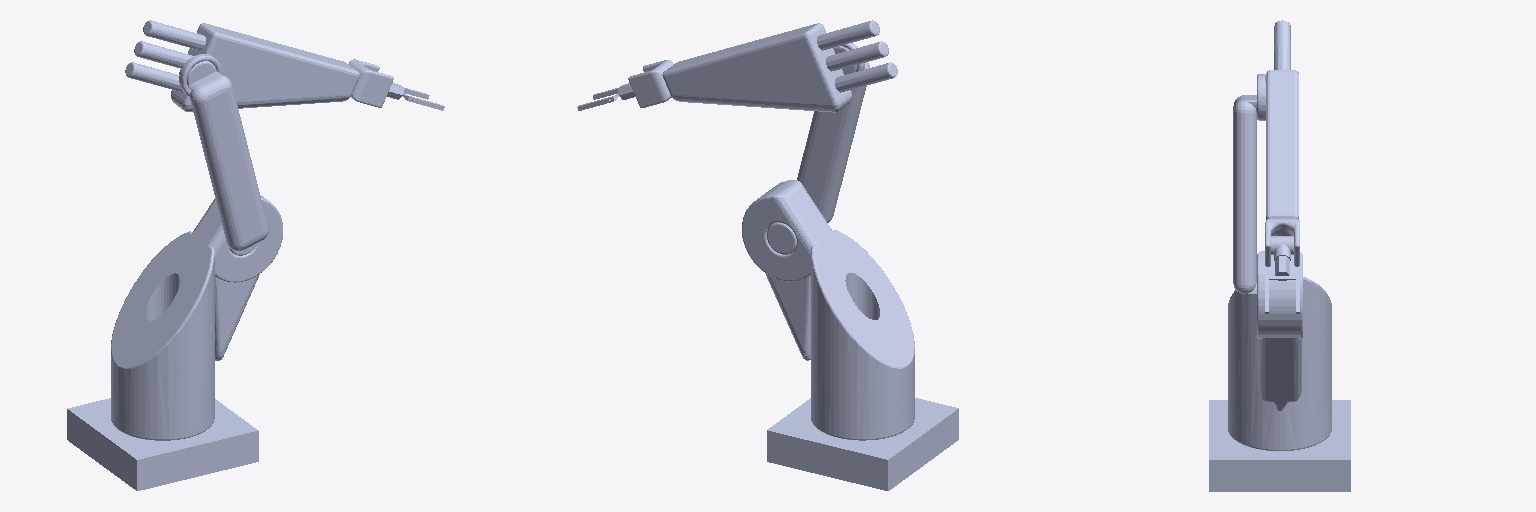
The robot description file, URDF, robot "kr6_v5":
<?xml version="1.0" encoding="utf-8"?>
<!-- This URDF was automatically created by SolidWorks to URDF Exporter! Originally created by [author] ([email redacted]) 
     Commit Version: 1.6.0-4-g7f85cfe  Build Version: 1.6.7995.38578
     For more information, please see http://wiki.ros.org/sw_urdf_exporter -->
<robot
  name="kr6_v5">
  <link name="world"/>
  <joint 
    name="world_joint"
    type="fixed">
    <parent
      link="world" />
    <child
      link="dummy_link" />
  </joint>
  <link name="dummy_link"/>
  <joint 
    name="dummy_joint"
    type="fixed">
    <parent
      link="dummy_link" />
    <child
      link="base_link" />
  </joint>
  <link
    name="base_link">
    <inertial>
      <origin
        xyz="0 5.5511E-17 0.089687"
        rpy="0 0 0" />
      <mass
        value="1059.757" />
      <inertia
        ixx="2.0043"
        ixy="7.0399E-17"
        ixz="1.4025E-17"
        iyy="1.9904"
        iyz="1.5709E-17"
        izz="3.4174" />
    </inertial>
    <visual>
      <origin
        xyz="0 0 0"
        rpy="0 0 0" />
      <geometry>
        <mesh
          filename="package://kr6_v5/meshes/base_link.STL" />
      </geometry>
      <material
        name="">
        <color
          rgba="0.79216 0.81961 0.93333 1" />
      </material>
    </visual>
    <collision>
      <origin
        xyz="0 0 0"
        rpy="0 0 0" />
      <geometry>
        <mesh
          filename="package://kr6_v5/meshes/base_link.STL" />
      </geometry>
    </collision>
  </link>
  <link
    name="l1">
    <inertial>
      <origin
        xyz="0.10748 1.104E-06 0.40131"
        rpy="0 0 0" />
      <mass
        value="108.68" />
      <inertia
        ixx="8.1398"
        ixy="3.1331E-05"
        ixz="-3.3196"
        iyy="10.286"
        iyz="1.275E-05"
        izz="4.6315" />
    </inertial>
    <visual>
      <origin
        xyz="0 0 0"
        rpy="0 0 0" />
      <geometry>
        <mesh
          filename="package://kr6_v5/meshes/l1.STL" />
      </geometry>
      <material
        name="">
        <color
          rgba="0.79216 0.81961 0.93333 1" />
      </material>
    </visual>
    <collision>
      <origin
        xyz="0 0 0"
        rpy="0 0 0" />
      <geometry>
        <mesh
          filename="package://kr6_v5/meshes/l1.STL" />
      </geometry>
    </collision>
  </link>
  <joint
    name="l1j"
    type="revolute">
    <origin
      xyz="0 0 0.15"
      rpy="0 0 0" />
    <parent
      link="base_link" />
    <child
      link="l1" />
    <axis
      xyz="0 0 1" />
    <limit
      lower="-3.2"
      upper="3.2"
      effort="50000"
      velocity="2.72" />
  </joint>
  <link
    name="l2">
    <inertial>
      <origin
        xyz="-0.0882961411823312 -0.0195458235269697 0.350516240830925"
        rpy="0 0 0" />
      <mass
        value="19.0484979909924" />
      <inertia
        ixx="1.54282672938812"
        ixy="-0.0409203624281092"
        ixz="0.354946702854769"
        iyy="1.5914800848933"
        iyz="0.162444829634413"
        izz="0.223178633229203" />
    </inertial>
    <visual>
      <origin
        xyz="0 0 0"
        rpy="0 0 0" />
      <geometry>
        <mesh
          filename="package://kr6_v5/meshes/l2.STL" />
      </geometry>
      <material
        name="">
        <color
          rgba="0.792156862745098 0.819607843137255 0.933333333333333 1" />
      </material>
    </visual>
    <collision>
      <origin
        xyz="0 0 0"
        rpy="0 0 0" />
      <geometry>
        <mesh
          filename="package://kr6_v5/meshes/l2.STL" />
      </geometry>
    </collision>
  </link>
  <joint
    name="l2j"
    type="revolute">
    <origin
      xyz="0.35 -0.1 0.815"
      rpy="0 0 0" />
    <parent
      link="l1" />
    <child
      link="l2" />
    <axis
      xyz="0 1 0" />
    <limit
      lower="-1"
      upper="2"
      effort="50000"
      velocity="2.72" />
  </joint>
  <link
    name="l3">
    <inertial>
      <origin
        xyz="0.27915 0.070676 -0.081656"
        rpy="0 0 0" />
      <mass
        value="14.618" />
      <inertia
        ixx="0.52588"
        ixy="-0.012706"
        ixz="0.64541"
        iyy="2.6019"
        iyz="0.003709"
        izz="2.1889" />
    </inertial>
    <visual>
      <origin
        xyz="0 0 0"
        rpy="0 0 0" />
      <geometry>
        <mesh
          filename="package://kr6_v5/meshes/l3.STL" />
      </geometry>
      <material
        name="">
        <color
          rgba="0.79216 0.81961 0.93333 1" />
      </material>
    </visual>
    <collision>
      <origin
        xyz="0 0 0"
        rpy="0 0 0" />
      <geometry>
        <mesh
          filename="package://kr6_v5/meshes/l3.STL" />
      </geometry>
    </collision>
  </link>
  <joint
    name="l3j"
    type="revolute">
    <origin
      xyz="-0.207631339859528 0.0388600000000001 0.824250706222407"
      rpy="0 0 0" />
    <parent
      link="l2" />
    <child
      link="l3" />
    <axis
      xyz="0 1 0" />
    <limit
      lower="-1"
      upper="1"
      effort="10000"
      velocity="2.72" />
  </joint>
  <link
    name="l4">
    <inertial>
      <origin
        xyz="0.12033 -7.5101E-08 -0.059844"
        rpy="0 0 0" />
      <mass
        value="3.0974" />
      <inertia
        ixx="0.0086187"
        ixy="7.3193E-09"
        ixz="0.0021149"
        iyy="0.011818"
        iyz="3.3917E-09"
        izz="0.011819" />
    </inertial>
    <visual>
      <origin
        xyz="0 0 0"
        rpy="0 0 0" />
      <geometry>
        <mesh
          filename="package://kr6_v5/meshes/l4.STL" />
      </geometry>
      <material
        name="">
        <color
          rgba="0.79216 0.81961 0.93333 1" />
      </material>
    </visual>
    <collision>
      <origin
        xyz="0 0 0"
        rpy="0 0 0" />
      <geometry>
        <mesh
          filename="package://kr6_v5/meshes/l4.STL" />
      </geometry>
    </collision>
  </link>
  <joint
    name="l4j"
    type="revolute">
    <origin
      xyz="0.709241905394179 0.0719950000000005 -0.190790250361053"
      rpy="0 0 0" />
    <parent
      link="l3" />
    <child
      link="l4" />
    <axis
      xyz="0.89537857085129 0 -0.445305754353456" />
    <limit
      lower="-6.1"
      upper="6.1"
      effort="1000"
      velocity="5.99" />
  </joint>
  <link
    name="l5">
    <inertial>
      <origin
        xyz="0.0069222 8.1476E-08 -0.0034424"
        rpy="0 0 0" />
      <mass
        value="1.67271" />
      <inertia
        ixx="0.0018727"
        ixy="-1.1811E-09"
        ixz="0.00012007"
        iyy="0.0010091"
        iyz="3.1402E-10"
        izz="0.0020544" />
    </inertial>
    <visual>
      <origin
        xyz="0 0 0"
        rpy="0 0 0" />
      <geometry>
        <mesh
          filename="package://kr6_v5/meshes/l5.STL" />
      </geometry>
      <material
        name="">
        <color
          rgba="0.79216 0.81961 0.93333 1" />
      </material>
    </visual>
    <collision>
      <origin
        xyz="0 0 0"
        rpy="0 0 0" />
      <geometry>
        <mesh
          filename="package://kr6_v5/meshes/l5.STL" />
      </geometry>
    </collision>
  </link>
  <joint
    name="l5j"
    type="revolute">
    <origin
      xyz="0.185791053451642 0 -0.0924009440283406"
      rpy="0 0 0" />
    <parent
      link="l4" />
    <child
      link="l5" />
    <axis
      xyz="0 1 0" />
    <limit
      lower="-2.2"
      upper="2.2"
      effort="1000"
      velocity="6.32" />
  </joint>
  <link
    name="l6">
    <inertial>
      <origin
        xyz="0.0261781736095704 -1.11022302462516E-16 -0.0130193995325603"
        rpy="0 0 0" />
      <mass
        value="0.8797206242961897" />
      <inertia
        ixx="2.52704155177287E-05"
        ixy="-3.1803606298463E-21"
        ixz="2.62013226938247E-06"
        iyy="3.05387289492656E-05"
        iyz="9.98398104867957E-21"
        izz="2.92356377041692E-05" />
    </inertial>
    <visual>
      <origin
        xyz="0 0 0"
        rpy="0 0 0" />
      <geometry>
        <mesh
          filename="package://kr6_v5/meshes/l6.STL" />
      </geometry>
      <material
        name="">
        <color
          rgba="0.792156862745098 0.819607843137255 0.933333333333333 1" />
      </material>
    </visual>
    <collision>
      <origin
        xyz="0 0 0"
        rpy="0 0 0" />
      <geometry>
        <mesh
          filename="package://kr6_v5/meshes/l6.STL" />
      </geometry>
    </collision>
  </link>
  <joint
    name="l6j"
    type="revolute">
    <origin
      xyz="0.035815 0 -0.017812"
      rpy="0 0 0" />
    <parent
      link="l5" />
    <child
      link="l6" />
    <axis
      xyz="0.89538 0 -0.44531" />
    <limit
      lower="-6.1"
      upper="6.1"
      effort="100"
      velocity="0.5" />
  </joint>
  <link
    name="g">
    <inertial>
      <origin
        xyz="0.0732032813011307 4.45776506929896E-07 -0.0364059084666251"
        rpy="0 0 0" />
      <mass
        value="0.264138905602098" />
      <inertia
        ixx="0.000194905343327247"
        ixy="2.47107813328709E-20"
        ixz="5.24341435168683E-05"
        iyy="0.000243435321027011"
        iyz="-1.08811584542357E-19"
        izz="0.000274257455291082" />
    </inertial>
    <visual>
      <origin
        xyz="0 0 0"
        rpy="0 0 0" />
      <geometry>
        <mesh
          filename="package://kr6_v5/meshes/g.STL" />
      </geometry>
      <material
        name="">
        <color
          rgba="0.792156862745098 0.819607843137255 0.933333333333333 1" />
      </material>
    </visual>
    <collision>
      <origin
        xyz="0 0 0"
        rpy="0 0 0" />
      <geometry>
        <mesh
          filename="package://kr6_v5/meshes/g.STL" />
      </geometry>
    </collision>
  </link>
  <joint
    name="gj"
    type="fixed">
    <origin
      xyz="0.012117 0 -0.0060261"
      rpy="0 0 0" />
    <parent
      link="l6" />
    <child
      link="g" />
    <axis
      xyz="0 0 0" />
  </joint>
  <link
    name="f1">
    <inertial>
      <origin
        xyz="0.091422239238048 0.01 -0.056636210491801"
        rpy="0 0 0" />
      <mass
        value="0.2740146018366027" />
      <inertia
        ixx="4.75453097295364E-05"
        ixy="-2.39112304414523E-20"
        ixz="8.54134811183698E-05"
        iyy="0.000219375729411499"
        iyz="1.26285925852741E-20"
        izz="0.000176807268871586" />
    </inertial>
    <visual>
      <origin
        xyz="0 0 0"
        rpy="0 0 0" />
      <geometry>
        <mesh
          filename="package://kr6_v5/meshes/f1.STL" />
      </geometry>
      <material
        name="">
        <color
          rgba="0.792156862745098 0.819607843137255 0.933333333333333 1" />
      </material>
    </visual>
    <collision>
      <origin
        xyz="0 0 0"
        rpy="0 0 0" />
      <geometry>
        <mesh
          filename="package://kr6_v5/meshes/f1.STL" />
      </geometry>
    </collision>
  </link>
  <joint
    name="f1j"
    type="revolute">
    <origin
      xyz="0.11679 -0.066 -0.046917"
      rpy="0 -0.46152 -3.1416" />
    <parent
      link="g" />
    <child
      link="f1" />
    <axis
      xyz="0 0 1" />
    <limit
      lower="-1"
      upper="1"
      effort="5"
      velocity="5" />
  </joint>
  <link
    name="f2">
    <inertial>
      <origin
        xyz="0.091422239238048 -0.01 -0.056636210491801"
        rpy="0 0 0" />
      <mass
        value="0.2740146018366027" />
      <inertia
        ixx="4.75453097295364E-05"
        ixy="-9.74452057697228E-20"
        ixz="8.54134811183697E-05"
        iyy="0.000219375729411498"
        iyz="4.90034363057179E-20"
        izz="0.000176807268871586" />
    </inertial>
    <visual>
      <origin
        xyz="0 0 0"
        rpy="0 0 0" />
      <geometry>
        <mesh
          filename="package://kr6_v5/meshes/f2.STL" />
      </geometry>
      <material
        name="">
        <color
          rgba="0.792156862745098 0.819607843137255 0.933333333333333 1" />
      </material>
    </visual>
    <collision>
      <origin
        xyz="0 0 0"
        rpy="0 0 0" />
      <geometry>
        <mesh
          filename="package://kr6_v5/meshes/f2.STL" />
      </geometry>
    </collision>
  </link>
  <joint
    name="f2j"
    type="revolute">
    <origin
      xyz="0.11679 0.066 -0.046917"
      rpy="-3.1416 0.46152 0" />
    <parent
      link="g" />
    <child
      link="f2" />
    <axis
      xyz="0 0 -1" />
    <limit
      lower="-1"
      upper="1"
      effort="5"
      velocity="5" />
  </joint>

  <transmission name="t_l1j">
    <type>transmission_interface/SimpleTransmission</type>
    <joint name="l1j">
      <hardwareInterface>hardware_interface/EffortJointInterface</hardwareInterface>
    </joint>
    <actuator name="a_l1j">
      <!-- not to sure about this 50 here -->
      <mechanicalReduction>1</mechanicalReduction>
      <hardwareInterface>hardware_interface/EffortJointInterface</hardwareInterface>
    </actuator>
  </transmission>

  <transmission name="t_l2j">
    <type>transmission_interface/SimpleTransmission</type>
    <joint name="l2j">
      <hardwareInterface>hardware_interface/EffortJointInterface</hardwareInterface>
    </joint>
    <actuator name="a_l2j">
      <!-- not to sure about this 50 here -->
      <mechanicalReduction>1</mechanicalReduction>
      <hardwareInterface>hardware_interface/EffortJointInterface</hardwareInterface>
    </actuator>
  </transmission>

  <transmission name="t_l3j">
    <type>transmission_interface/SimpleTransmission</type>
    <joint name="l3j">
      <hardwareInterface>hardware_interface/EffortJointInterface</hardwareInterface>
    </joint>
    <actuator name="a_l3j">
      <!-- not to sure about this 50 here -->
      <mechanicalReduction>1</mechanicalReduction>
      <hardwareInterface>hardware_interface/EffortJointInterface</hardwareInterface>
    </actuator>
  </transmission>

  <transmission name="t_l4j">
    <type>transmission_interface/SimpleTransmission</type>
    <joint name="l4j">
      <hardwareInterface>hardware_interface/EffortJointInterface</hardwareInterface>
    </joint>
    <actuator name="a_l4j">
      <!-- not to sure about this 50 here -->
      <mechanicalReduction>1</mechanicalReduction>
      <hardwareInterface>hardware_interface/EffortJointInterface</hardwareInterface>
    </actuator>
  </transmission>

  <transmission name="t_l5j">
    <type>transmission_interface/SimpleTransmission</type>
    <joint name="l5j">
      <hardwareInterface>hardware_interface/EffortJointInterface</hardwareInterface>
    </joint>
    <actuator name="a_l5j">
      <!-- not to sure about this 50 here -->
      <mechanicalReduction>1</mechanicalReduction>
      <hardwareInterface>hardware_interface/EffortJointInterface</hardwareInterface>
    </actuator>
  </transmission>

  <transmission name="t_l6j">
    <type>transmission_interface/SimpleTransmission</type>
    <joint name="l6j">
      <hardwareInterface>hardware_interface/EffortJointInterface</hardwareInterface>
    </joint>
    <actuator name="a_l6j">
      <!-- not to sure about this 50 here -->
      <mechanicalReduction>1</mechanicalReduction>
      <hardwareInterface>hardware_interface/EffortJointInterface</hardwareInterface>
    </actuator>
  </transmission>

  <transmission name="t_f1j">
    <type>transmission_interface/SimpleTransmission</type>
    <joint name="f1j">
      <hardwareInterface>hardware_interface/EffortJointInterface</hardwareInterface>
    </joint>
    <actuator name="a_f1j">
      <mechanicalReduction>1</mechanicalReduction>
      <hardwareInterface>hardware_interface/EffortJointInterface</hardwareInterface>
    </actuator>
  </transmission>

  <transmission name="t_f2j">
    <type>transmission_interface/SimpleTransmission</type>
    <joint name="f2j">
      <hardwareInterface>hardware_interface/EffortJointInterface</hardwareInterface>
    </joint>
    <actuator name="a_f2j">
      <mechanicalReduction>1</mechanicalReduction>
      <hardwareInterface>hardware_interface/EffortJointInterface</hardwareInterface>
    </actuator>
  </transmission>

  <!--  Gazebo plugin for control here is already added for you -->
	<gazebo>
		<plugin name="gazebo_ros_control" filename="libgazebo_ros_control.so">
			<robotNamespace>/</robotNamespace>
			<robotSimType>gazebo_ros_control/DefaultRobotHWSim</robotSimType>
			<legacyModeNS>true</legacyModeNS>
		</plugin>
	</gazebo>

</robot>

--- What the picture shows (computed from the rendered views, not written in the file) ---
The picture shows the robot from 3 angles, left to right: view 1: azimuth 30°, elevation 25°; view 2: azimuth 150°, elevation 25°; view 3: azimuth 270°, elevation 25°; orthographic projection.
Robot: kr6_v5 — 12 links, 11 joints (8 revolute, 3 fixed); root link world; default pose: every joint at zero.
Links seen in each view (by area): view 1: l1, l3, base_link, l2, l4; view 2: l1, l3, base_link, l2, l4; view 3: l1, base_link, l3, l2, l4.
Boxes of the visible links, x1,y1,x2,y2 form: l1: (111, 195, 282, 440); l3: (125, 20, 359, 111); base_link: (67, 398, 258, 490); l2: (187, 61, 268, 255); l4: (349, 59, 393, 107); l1: (742, 180, 914, 440); l3: (662, 20, 897, 112); base_link: (767, 398, 958, 490); l2: (767, 46, 869, 254); l4: (628, 60, 673, 107); l1: (1228, 251, 1331, 450); base_link: (1209, 400, 1350, 491); l3: (1257, 20, 1298, 219); l2: (1233, 95, 1256, 293); l4: (1265, 219, 1299, 266).
Size in the robot's own frame: 1.68 by 0.6087 by 2.06 metres.
Meshes: 10 distinct files referenced, 10 mesh visuals loaded (10 binary STL).
